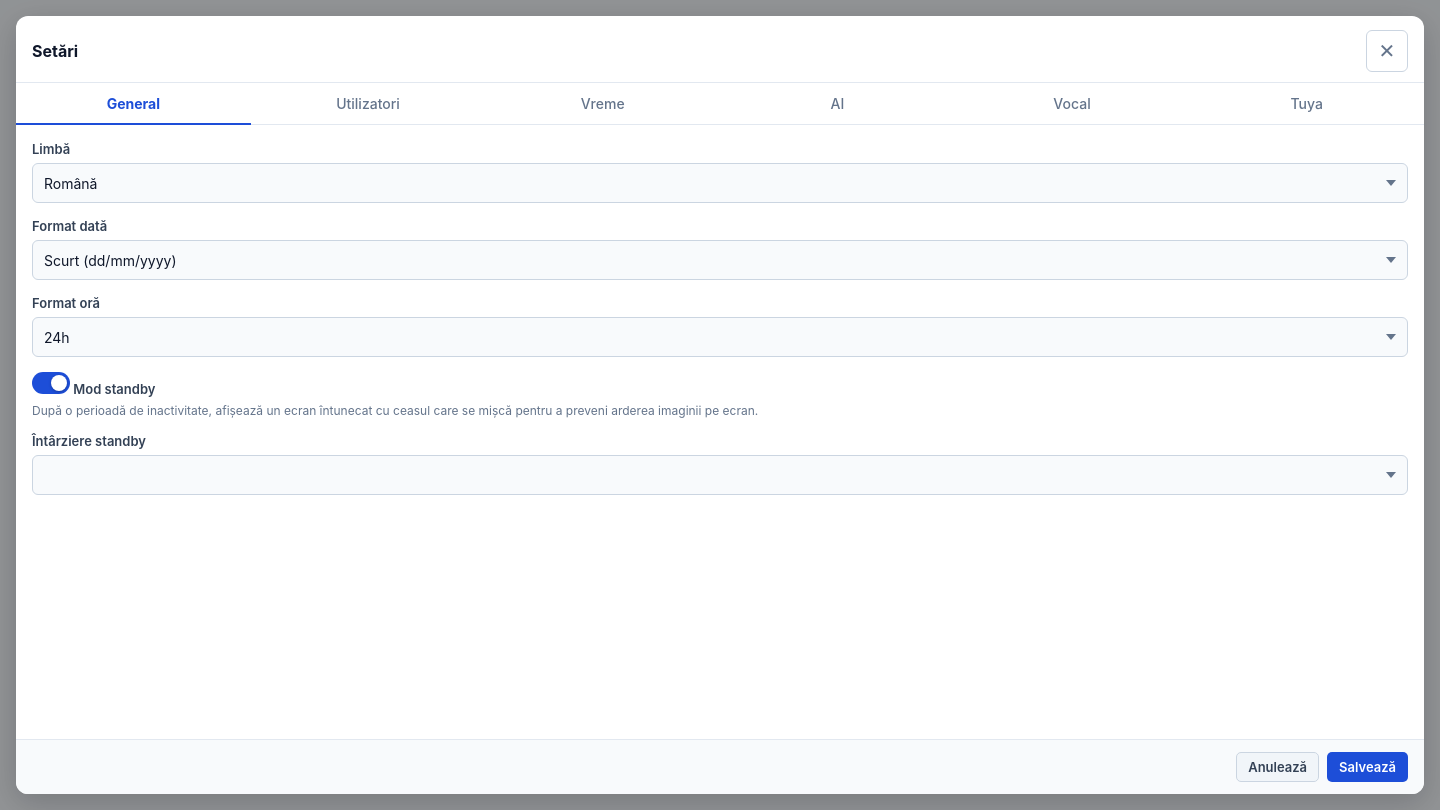
SettingsPanel.vue › switches to the users tab
Note: Second tab button is "Users".
Click the button with class "tab-btn" showing "Utilizatori" at (368, 104), box [251, 83, 485, 125]
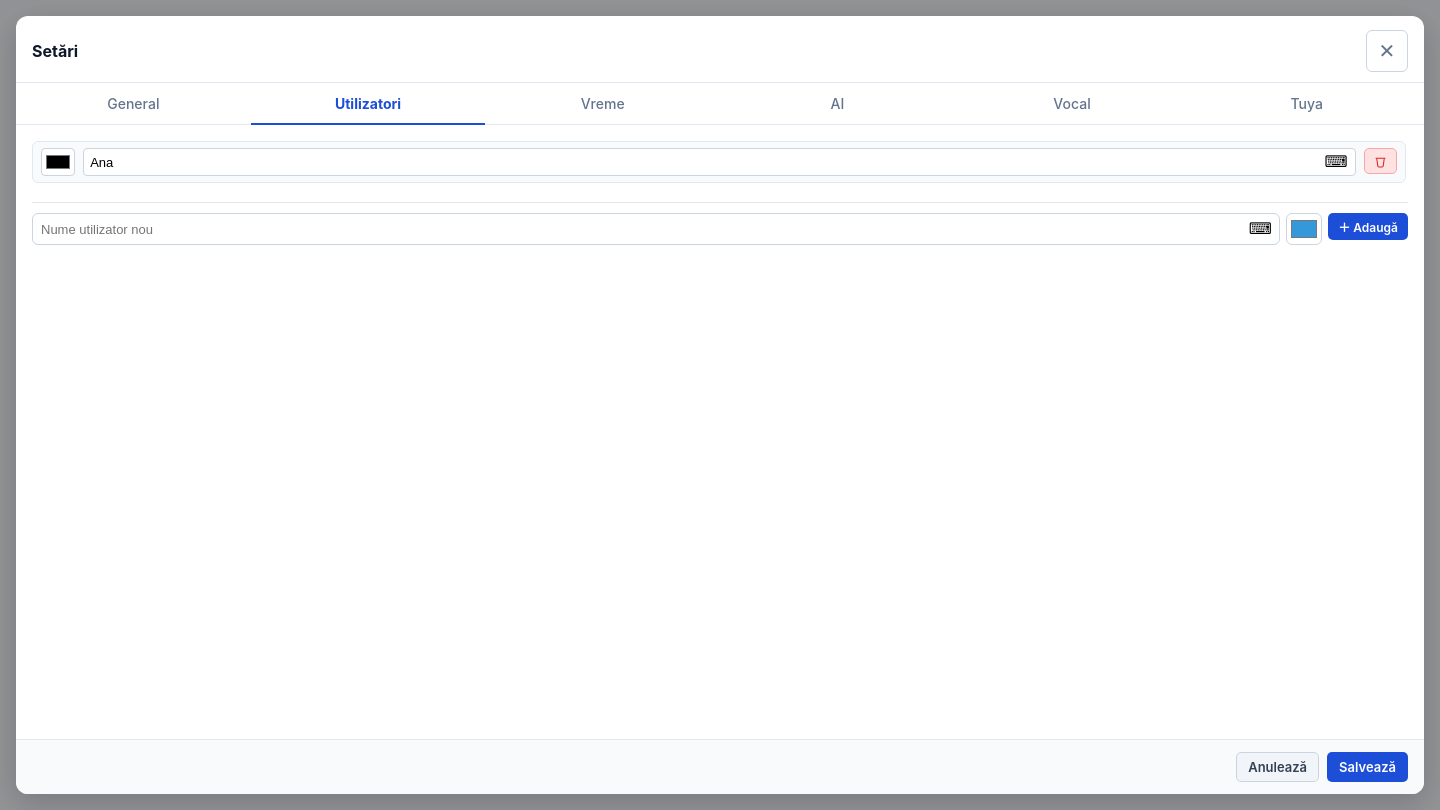
Check: the number of elements with class "settings-user-row" is 1, box [32, 141, 1406, 183]
